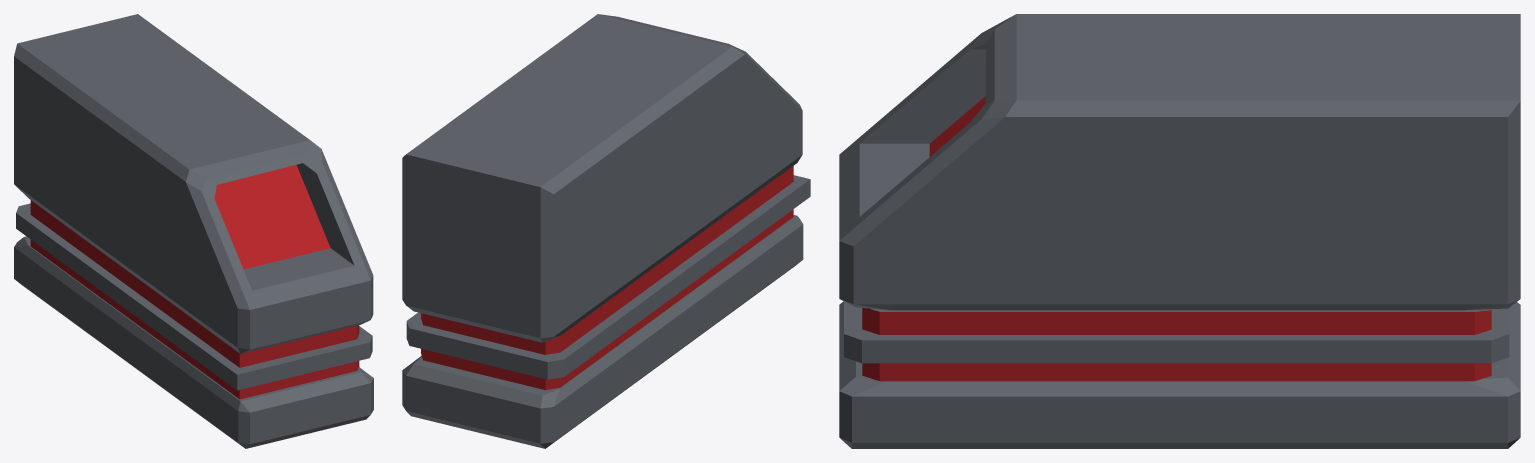
The model's file is Thingy.fbx.
3 views of the same model, side by side, from view 1: azimuth 30°, elevation 25°; view 2: azimuth 150°, elevation 25°; view 3: azimuth 270°, elevation 25° (orthographic). The views are drawn at different scales.
Parts seen in each view (by area): view 1: Thingy1; view 2: Thingy1; view 3: Thingy1.
Part boxes in pixels (x1,y1,x2,y2): Thingy1: (14, 14, 373, 448); Thingy1: (402, 14, 810, 448); Thingy1: (839, 14, 1520, 448).
Size of the model in its own units: 209 by 335 by 594.
